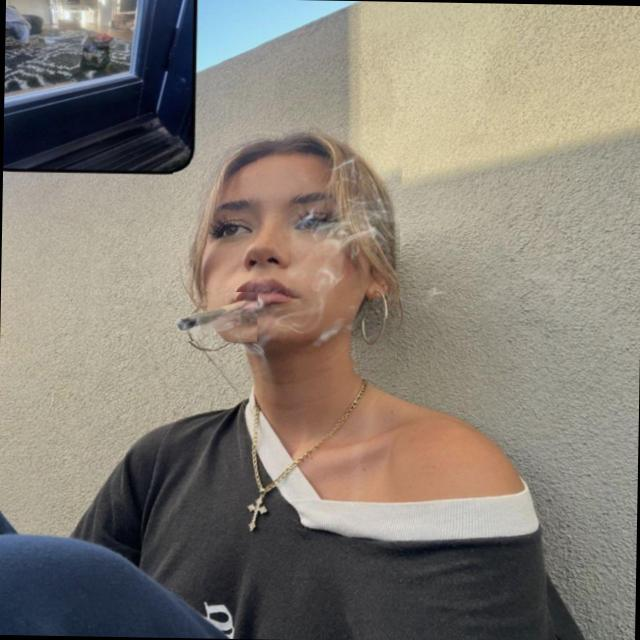cigarette: (168, 289, 258, 342)
